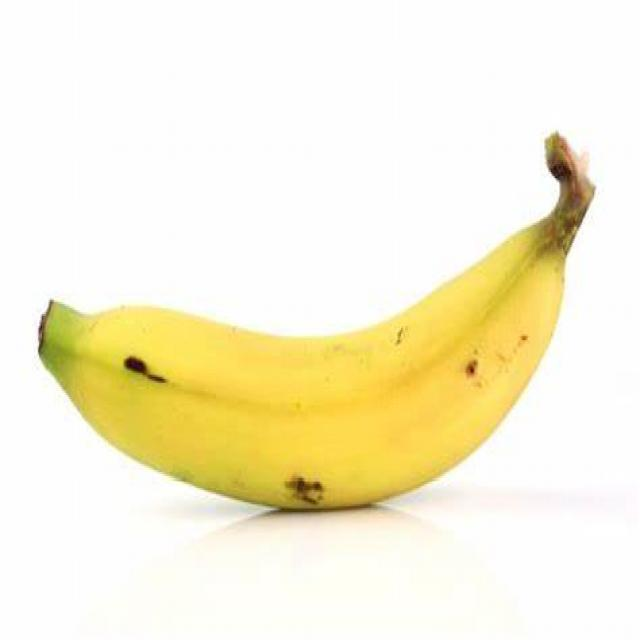Banana: (26, 135, 613, 519)
